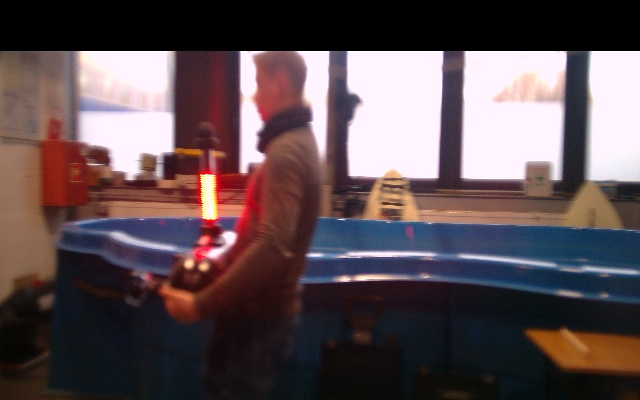red: (199, 172, 218, 224)
